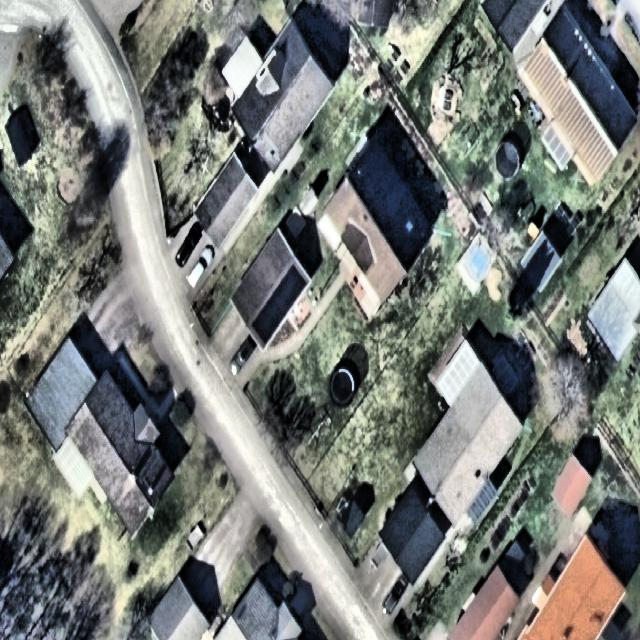roof_pv: (252, 278, 280, 348), (280, 263, 308, 319)
